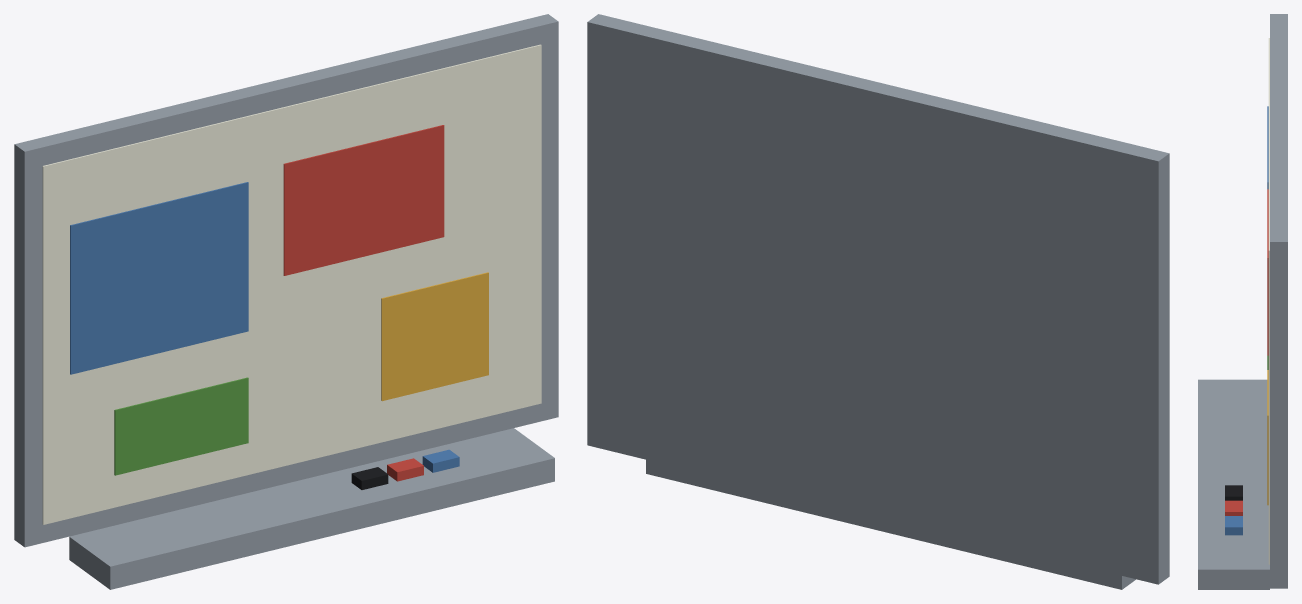
File: whiteboard.glb
The picture shows the model from 3 angles, left to right: view 1: azimuth 30°, elevation 25°; view 2: azimuth 150°, elevation 25°; view 3: azimuth 270°, elevation 25°; orthographic projection. The views are drawn at different scales.
Visible parts, largest first — view 1: whiteboard_Body; view 2: whiteboard_Body; view 3: whiteboard_Body.
Boxes of the visible parts, <box> form: whiteboard_Body: <box>14,14,558,589</box>; whiteboard_Body: <box>587,14,1169,589</box>; whiteboard_Body: <box>1198,14,1287,589</box>.
Bounding box in the file's own units: 1.2 × 0.9 × 0.2.
